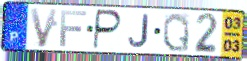2: (194, 12, 219, 56)
F: (59, 9, 89, 48)
J: (127, 13, 150, 49)
P: (91, 8, 124, 52)
Q: (162, 11, 191, 54)
V: (28, 7, 60, 49)
